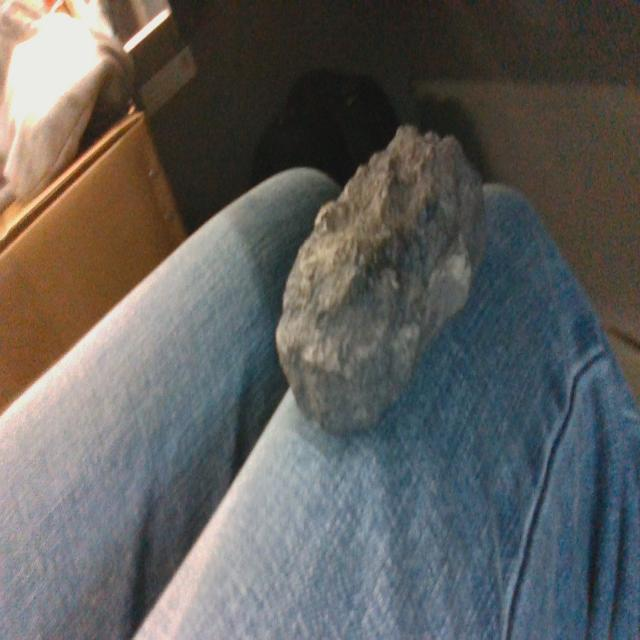stone: (276, 124, 486, 436)
